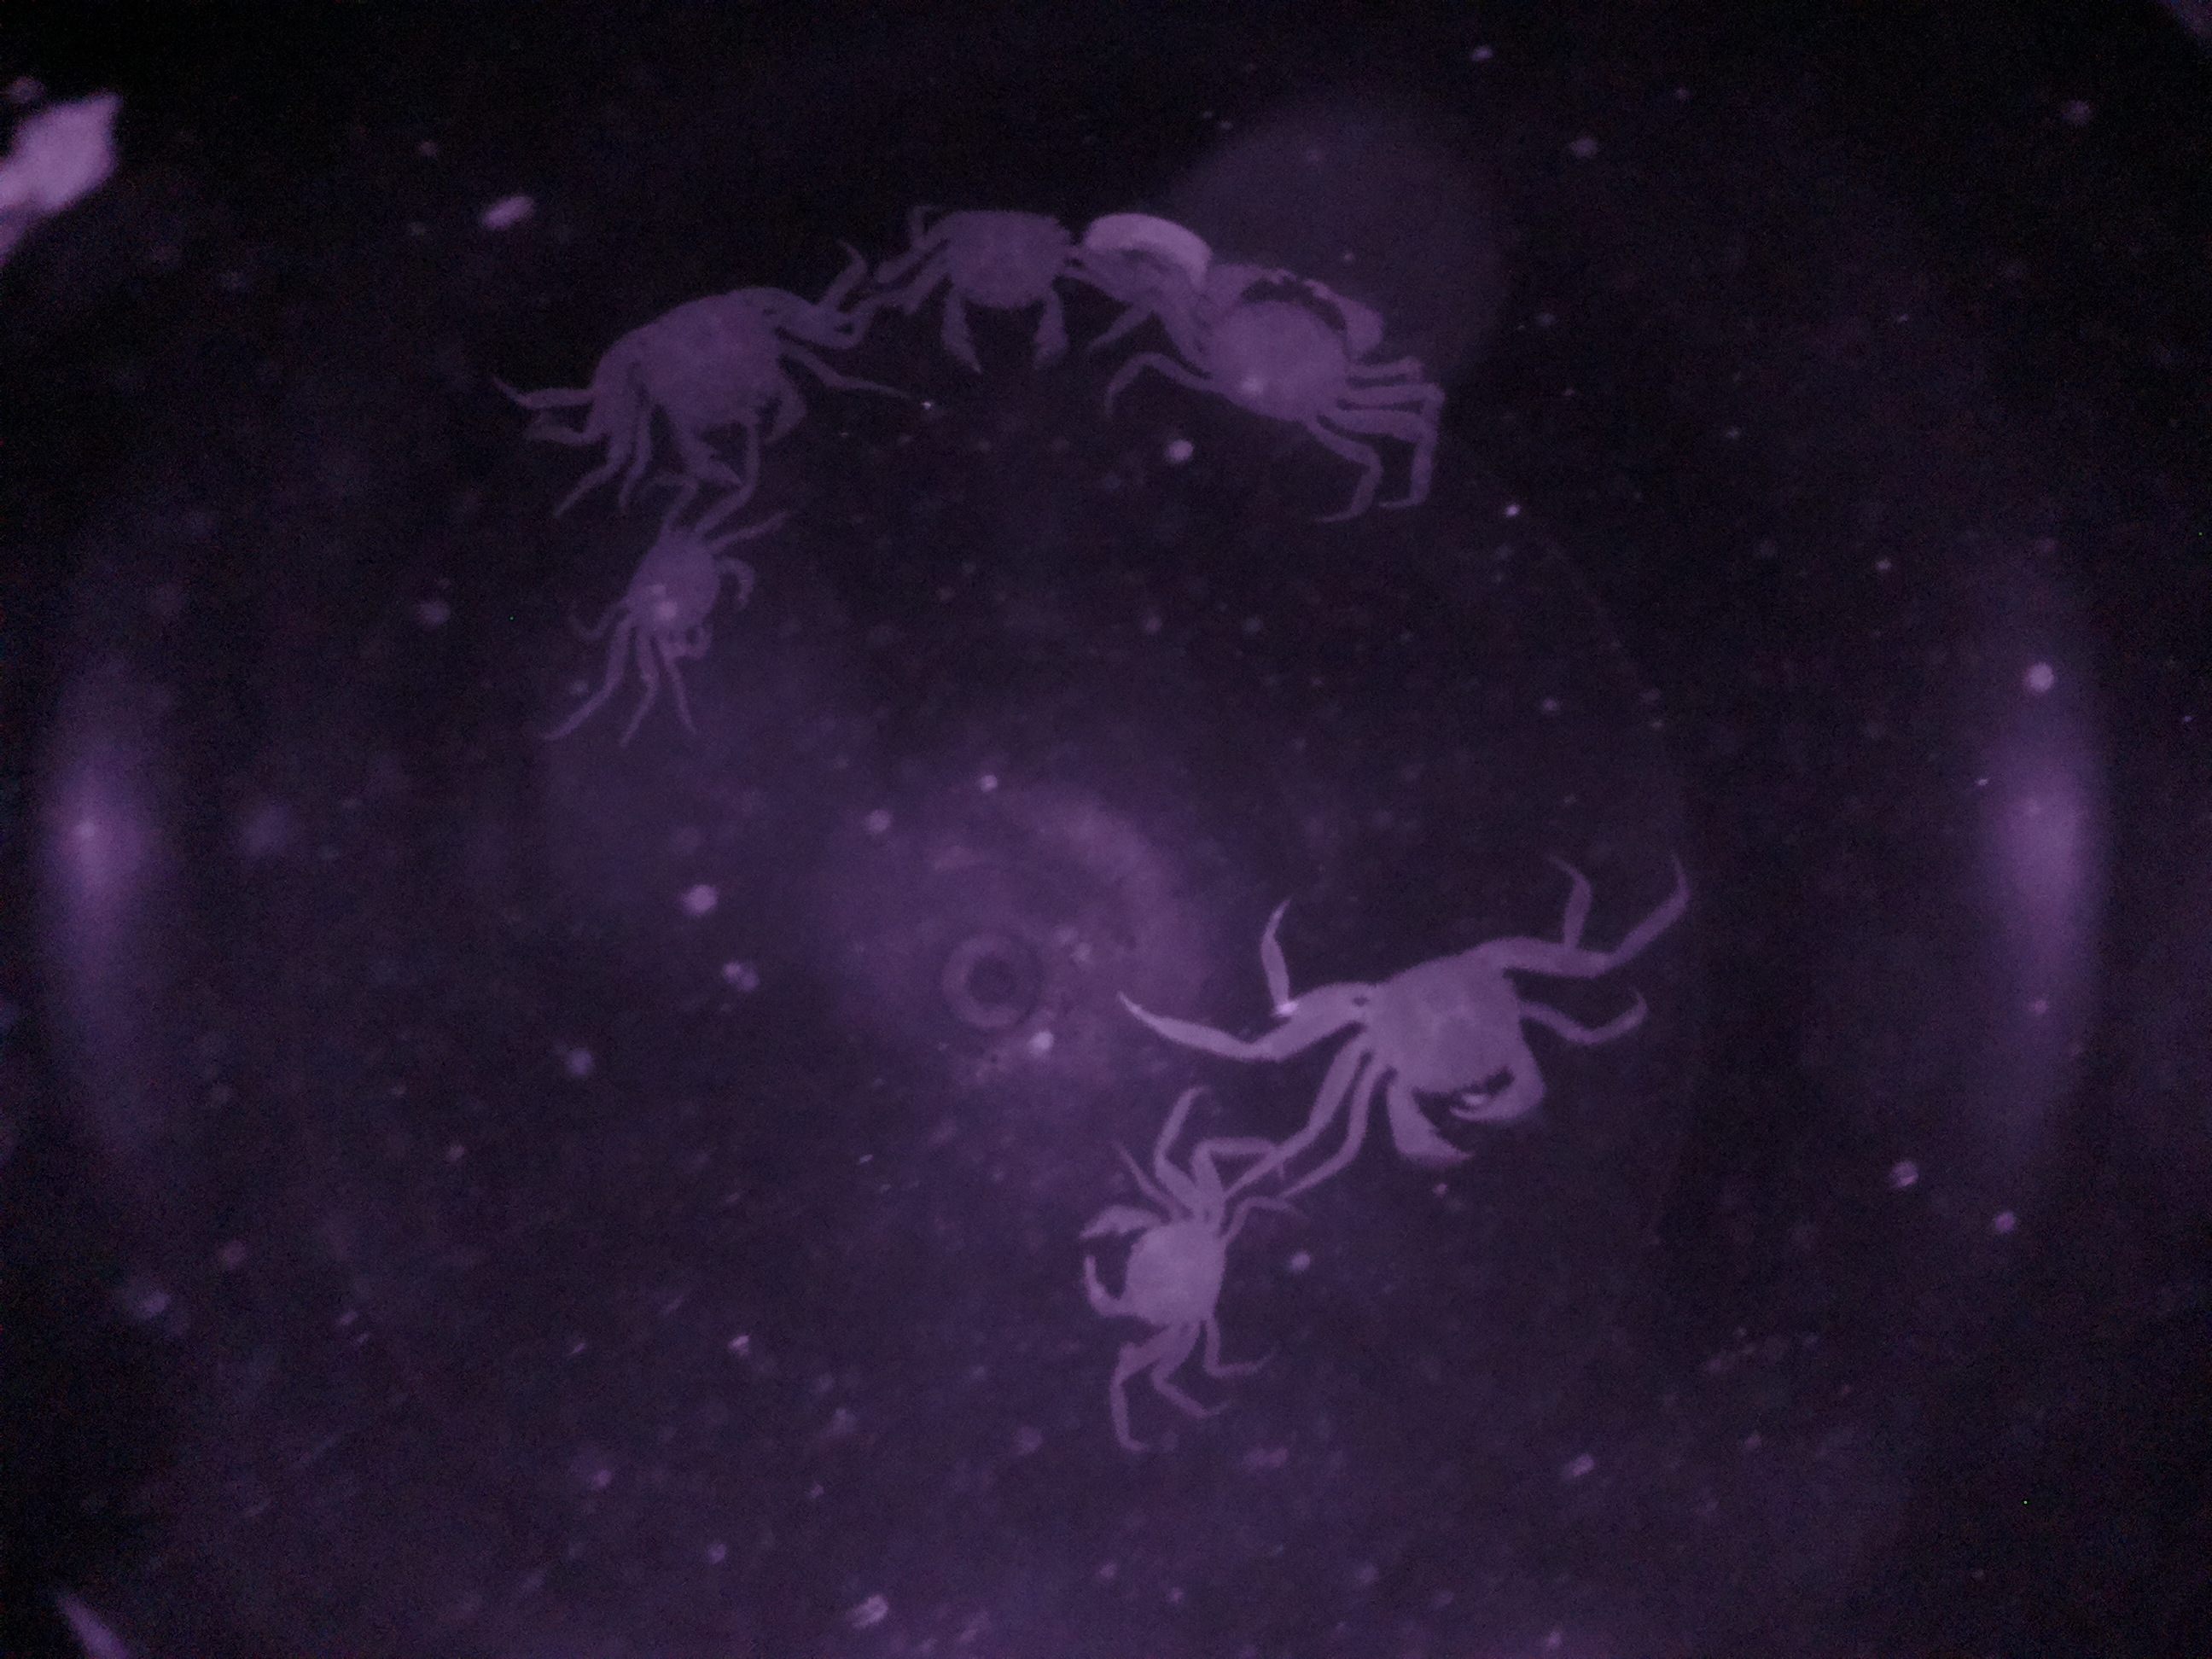Crab: (1306, 913, 1573, 1183), (1158, 249, 1404, 465), (1071, 1157, 1258, 1380), (578, 500, 794, 692), (916, 188, 1094, 399)
